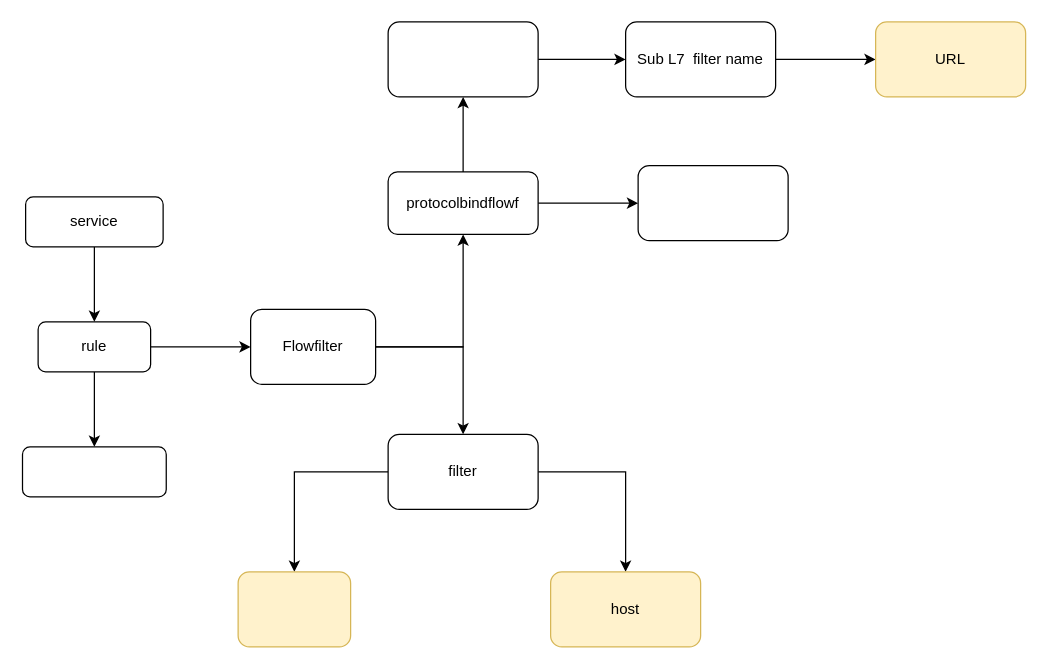
The diagram is 1048 pixels wide and 669 high, and some of its shapes have lost their labels. The shapes that lost their labels are listed below. From the top down, each one's centre as x and y in pixels, then its label:
(462,59): L7 Filter
(712,202): protocol http/https
(93,471): Policy
(294,609): IP List
